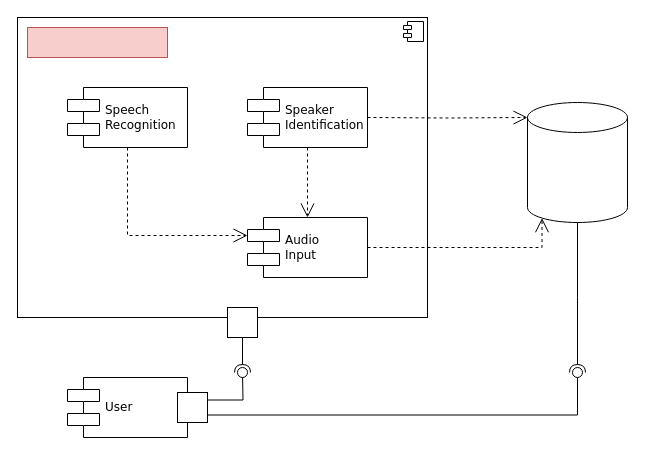
This 645x455 diagram has some shape labels left out. Each missing label, with the centre of its shape:
Data Storage: the point at 577,162
Voice Master: the point at 97,42
